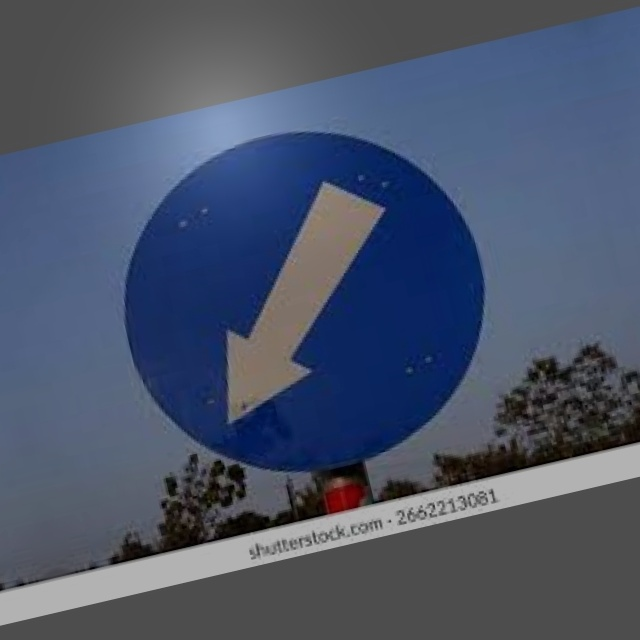Compulsory_Keep_Left: (94, 101, 505, 492)
